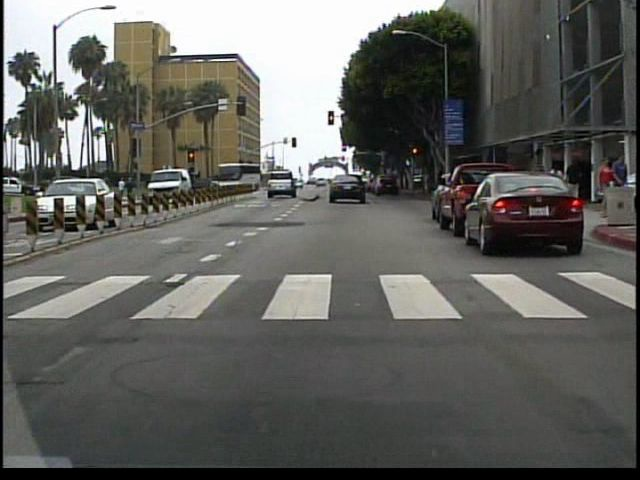person: (591, 159, 612, 222), (599, 154, 624, 192), (565, 157, 582, 201), (116, 175, 129, 204), (126, 177, 138, 194)
